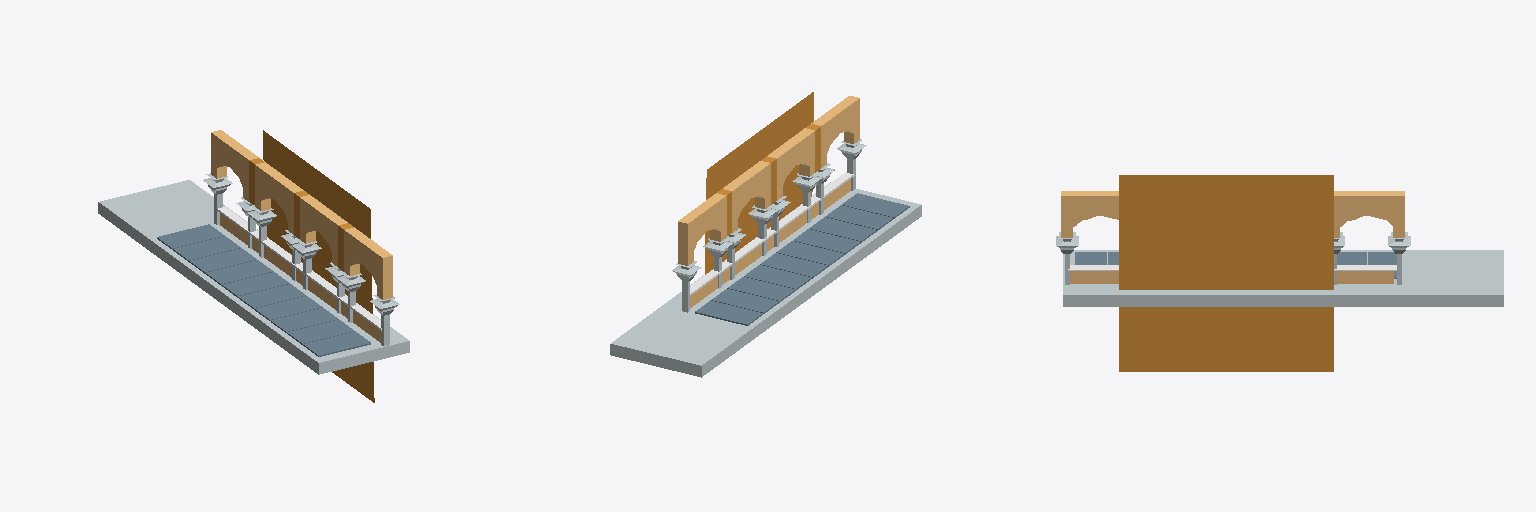
3 renders of one model, left to right at view 1: azimuth 30°, elevation 25°; view 2: azimuth 150°, elevation 25°; view 3: azimuth 270°, elevation 25°, orthographic.
Parts seen in each view (by area): view 1: model; view 2: model; view 3: model.
Part boxes in pixels (bbox=[...]): model: bbox=[98, 130, 409, 402]; model: bbox=[610, 92, 921, 377]; model: bbox=[1056, 175, 1503, 371].
Size of the model in its own units: 0.9759 by 2 by 4.15.
Materials: 6 (6 with a texture image).